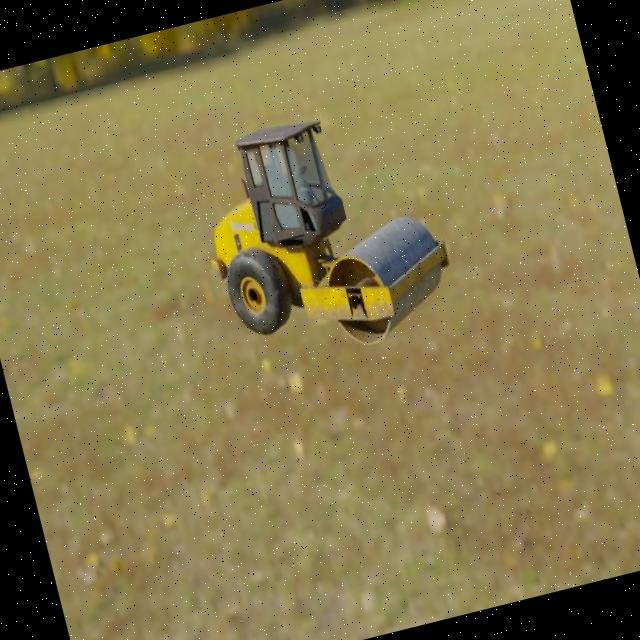Roller: (181, 91, 465, 378)
